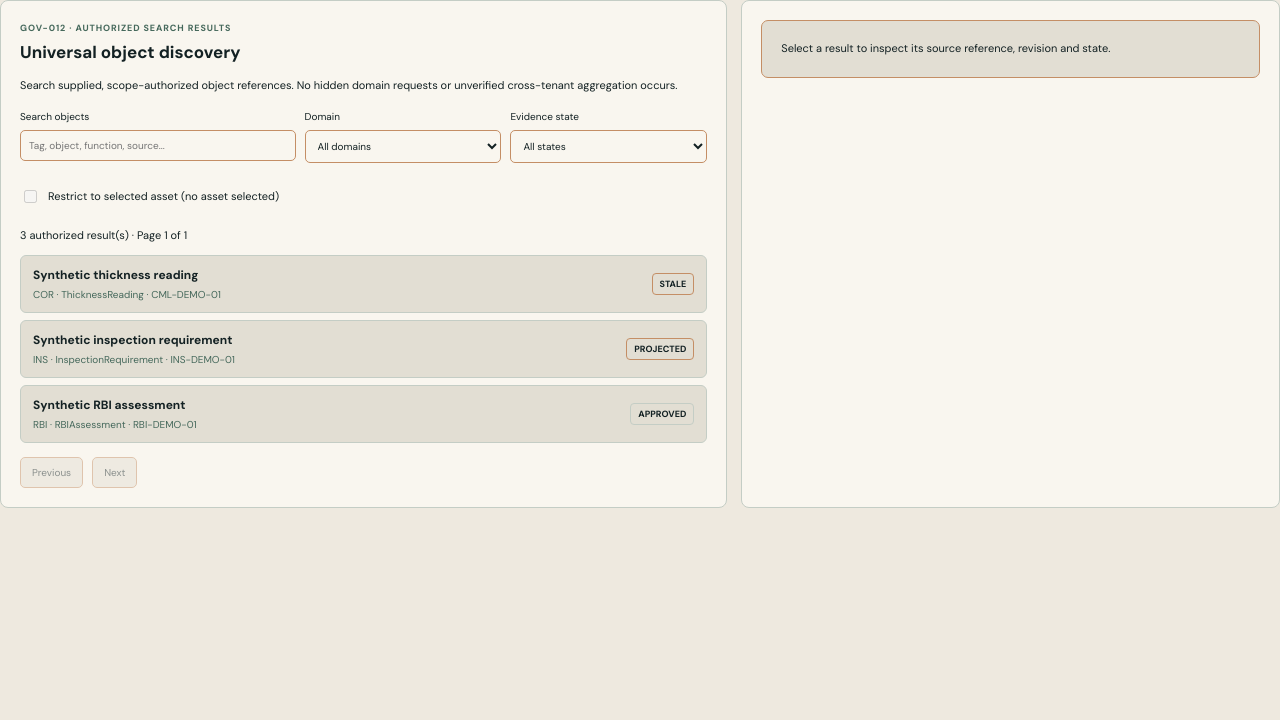
Phase 19 — shared dossier inside Universal Search › does not treat missing dossier as no evidence exists
Click the button "Synthetic RBI assessment" at (109, 405), box [20,385,707,443]
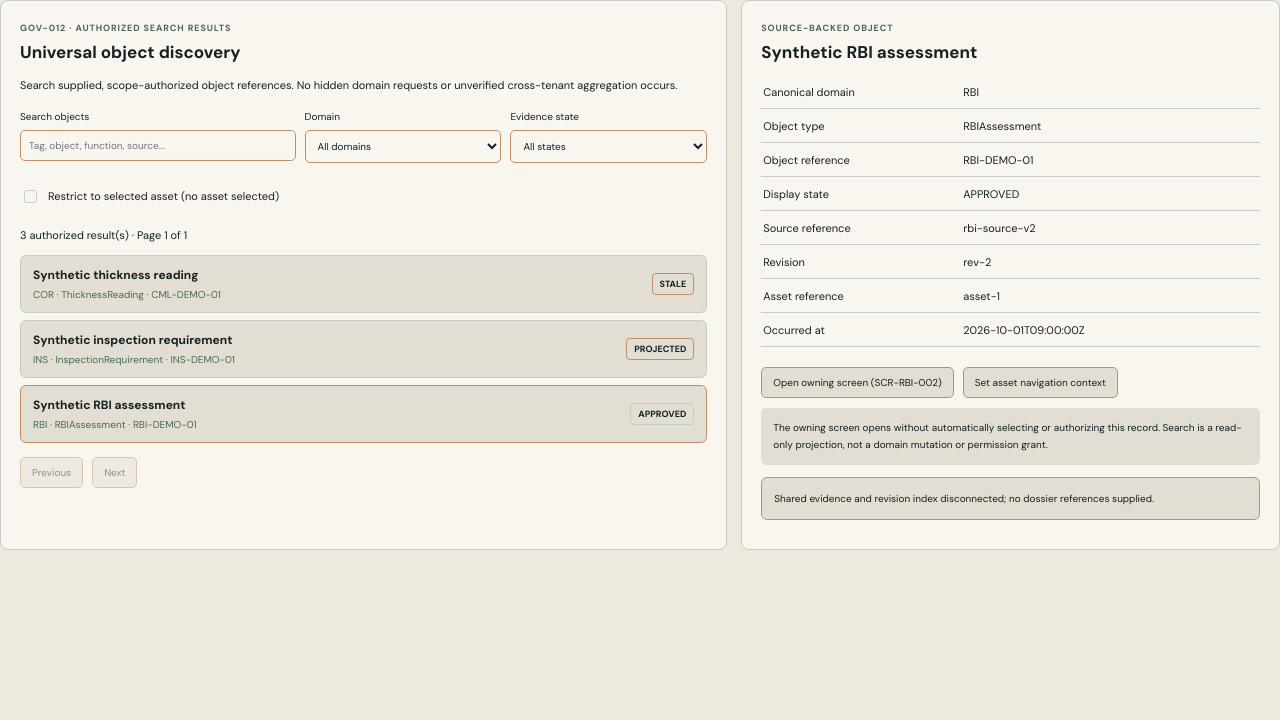
Expected: the text "Shared evidence and revision index disconnected" is shown, [774,492,1154,505]
